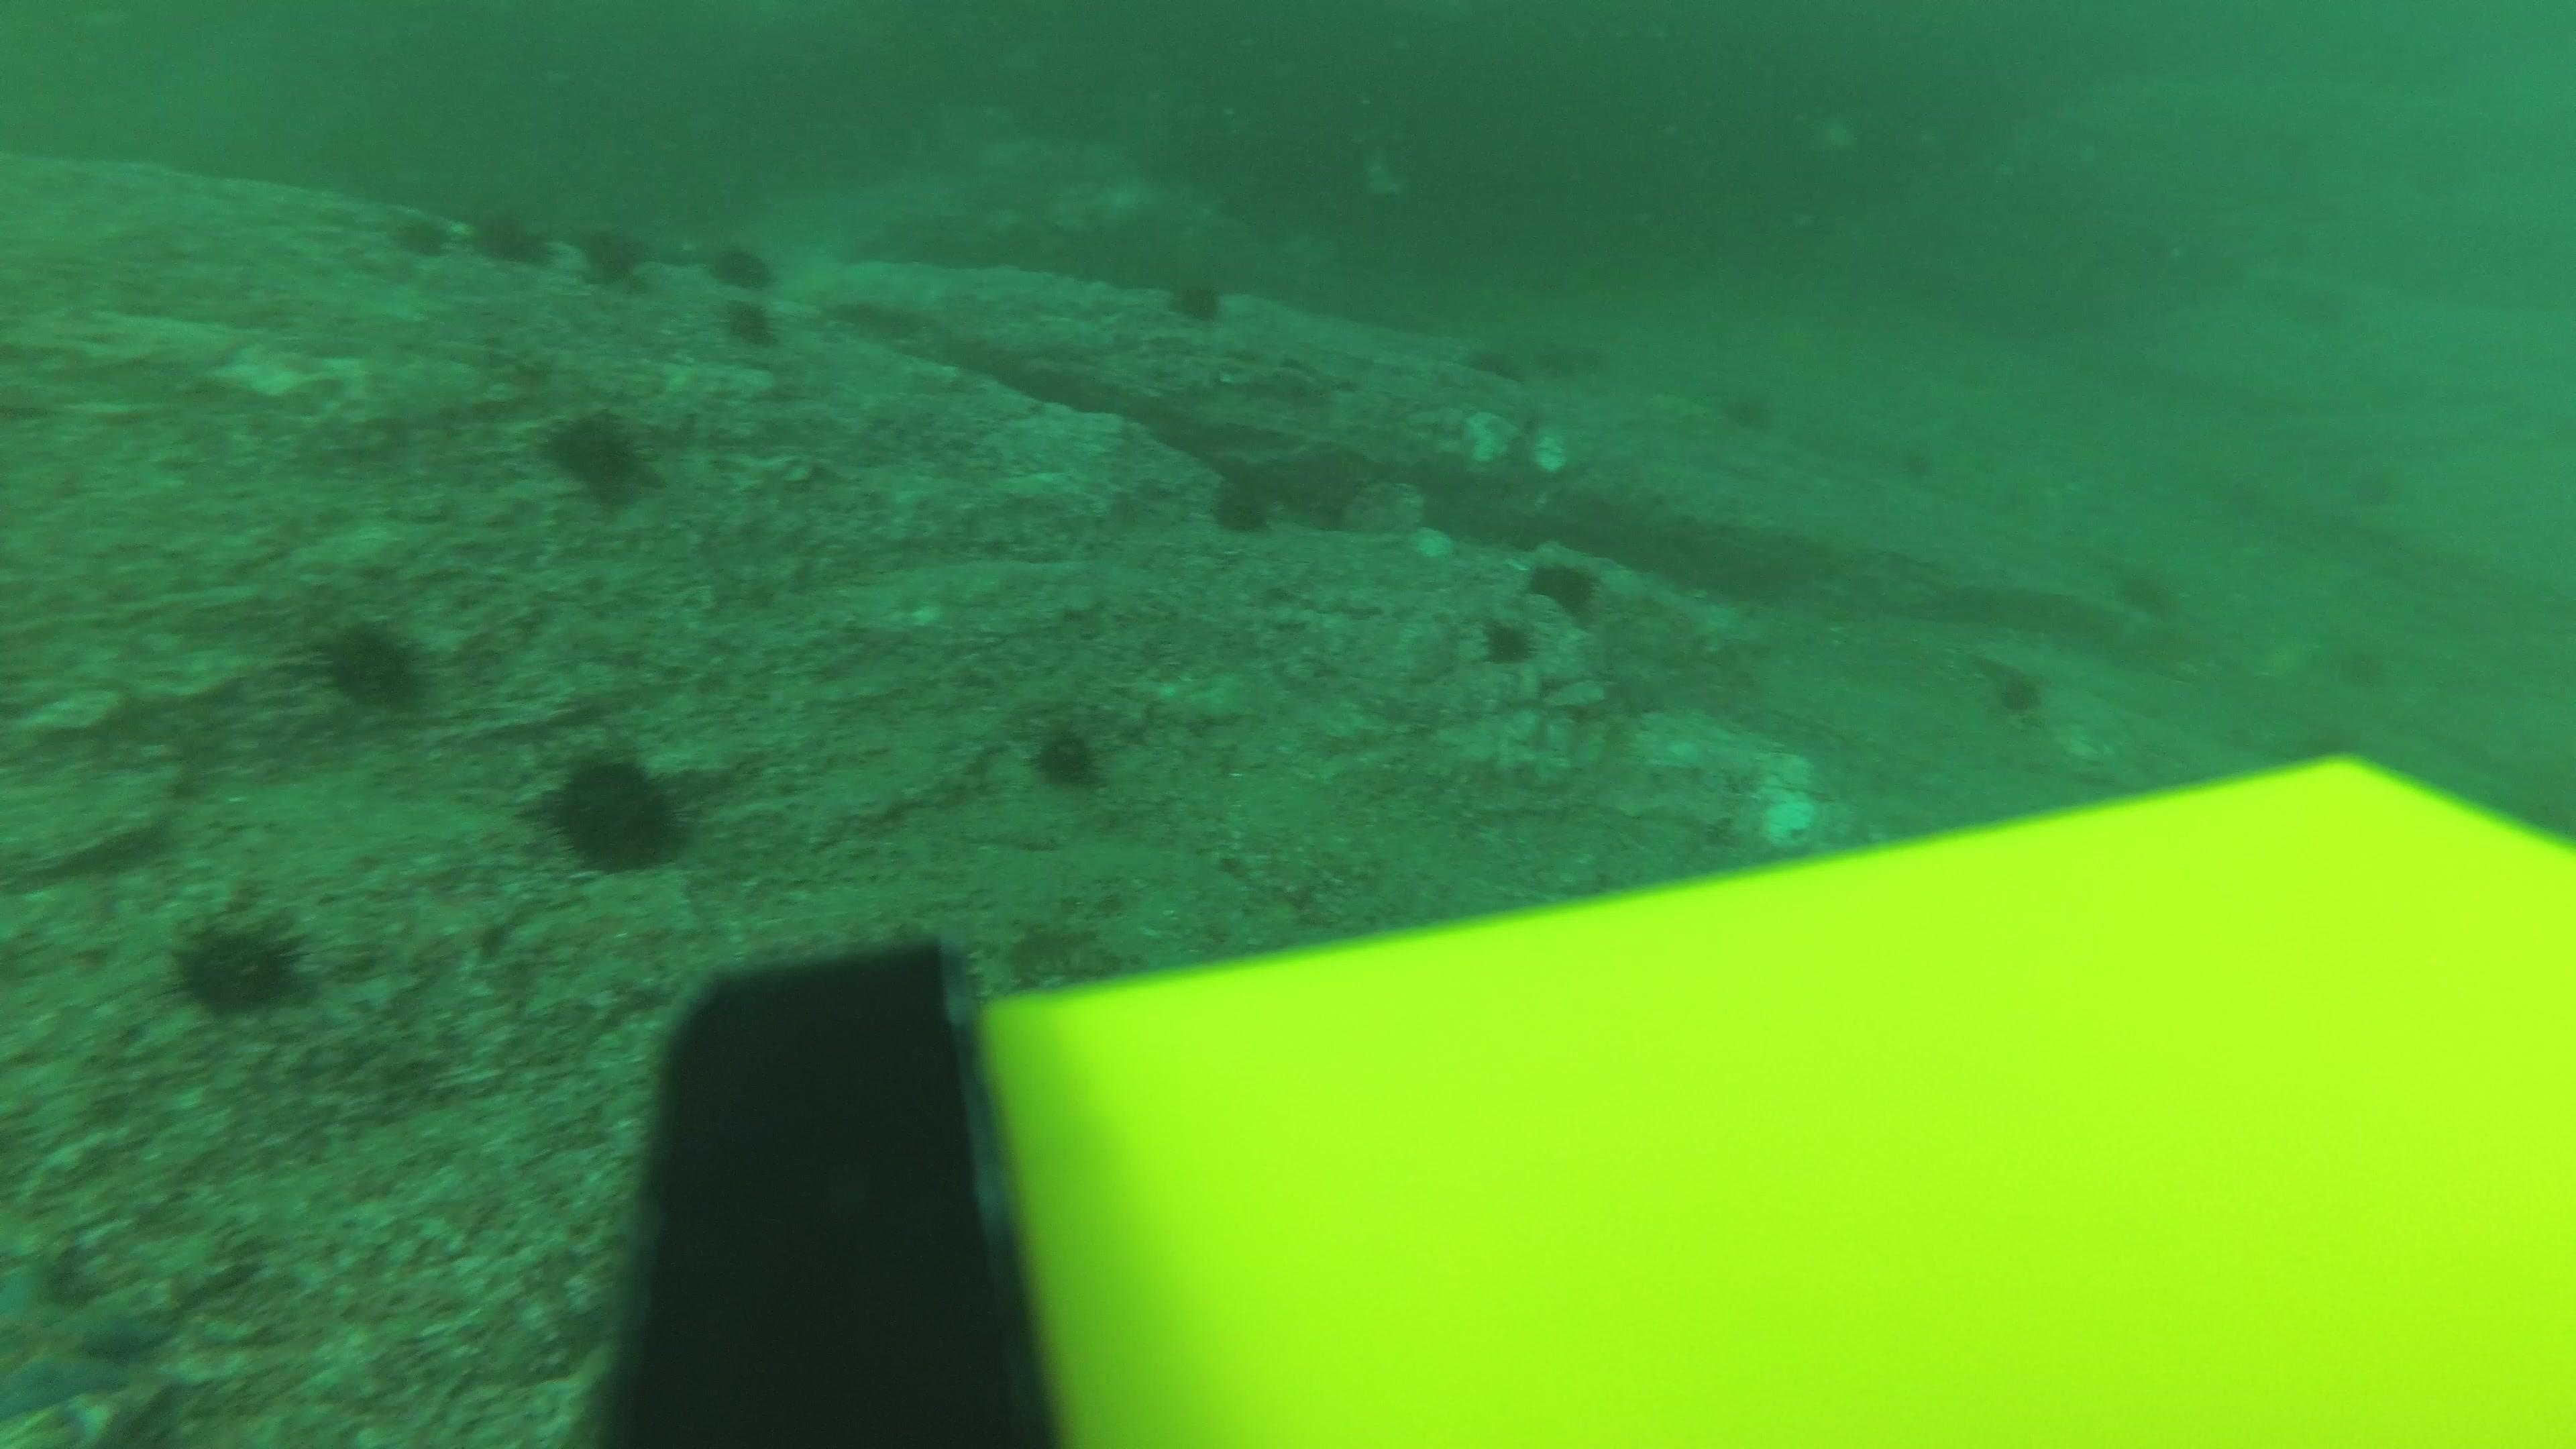echinus: (540, 745, 692, 876), (165, 906, 313, 1023), (308, 612, 435, 718), (540, 405, 658, 508), (1024, 717, 1113, 796), (467, 200, 554, 271), (715, 265, 786, 352), (1520, 548, 1605, 619), (1707, 372, 1792, 442), (1527, 318, 1612, 389), (1870, 421, 1955, 492), (2321, 455, 2406, 525), (2328, 630, 2415, 699), (1203, 467, 1283, 541), (1460, 331, 1545, 400), (2199, 453, 2284, 522), (573, 219, 653, 290), (706, 235, 780, 306), (1978, 658, 2054, 724), (2109, 557, 2183, 623), (1161, 267, 1231, 329), (1474, 610, 1543, 671), (387, 205, 456, 260)
starfish: (0, 1238, 172, 1433)
